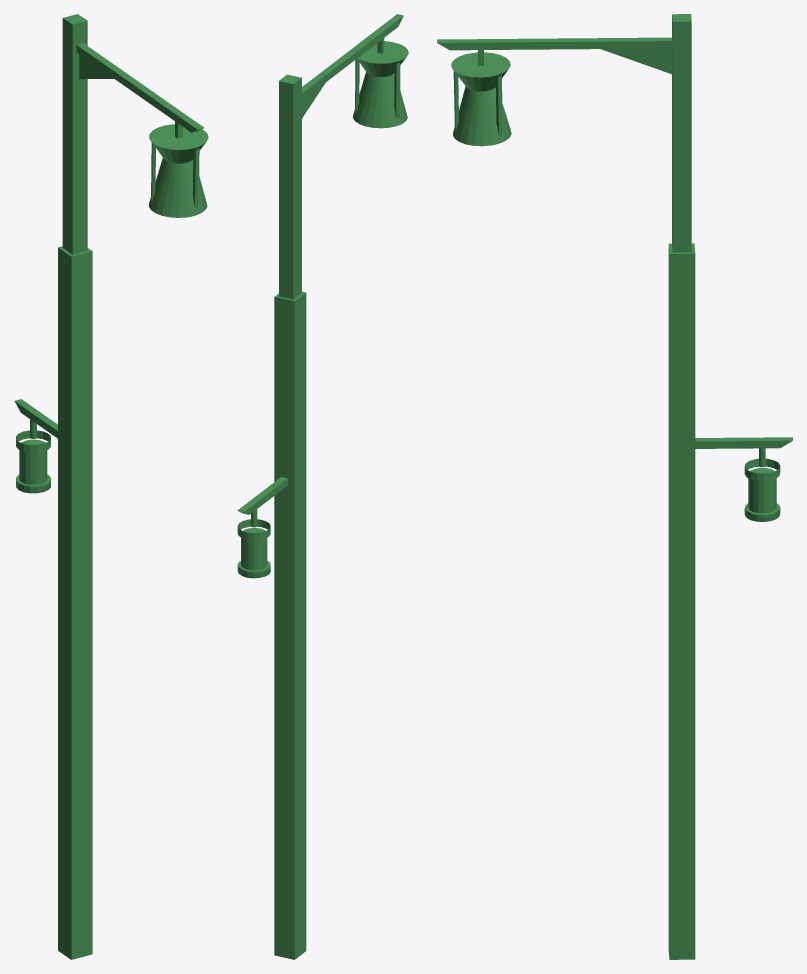
The model's file is StreetFurniture_StreetLight_03.fbx.
3 views of the same model, side by side, from view 1: azimuth 30°, elevation 25°; view 2: azimuth 150°, elevation 25°; view 3: azimuth 270°, elevation 25° (orthographic). The views are drawn at different scales.
Visible parts, largest first — view 1: Prop_StreetLight_03_Mesh_LOD0; view 2: Prop_StreetLight_03_Mesh_LOD0; view 3: Prop_StreetLight_03_Mesh_LOD0.
Boxes of the visible parts, x1=… form: Prop_StreetLight_03_Mesh_LOD0: x1=14, y1=14, x2=208, y2=959; Prop_StreetLight_03_Mesh_LOD0: x1=237, y1=14, x2=408, y2=959; Prop_StreetLight_03_Mesh_LOD0: x1=437, y1=14, x2=792, y2=959.
Size of what is drawn, in the model's own units: 53.8 by 932 by 321.
